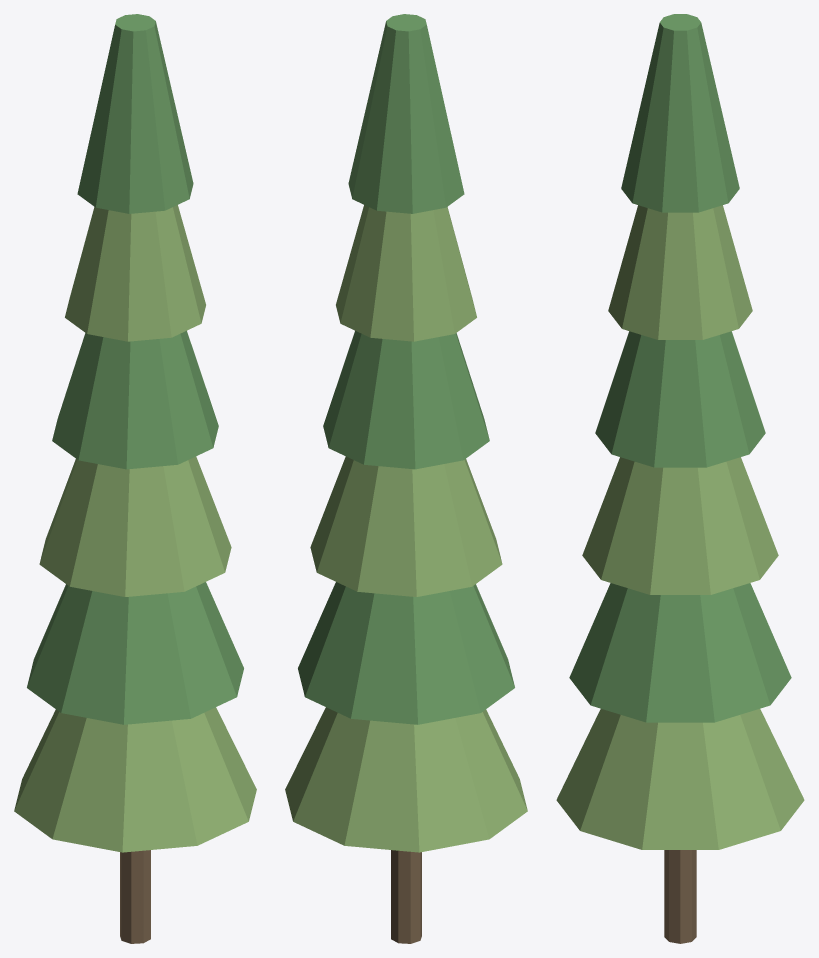
Rendered from tree-column.glb.
The picture shows the model from 3 angles, left to right: view 1: azimuth 30°, elevation 25°; view 2: azimuth 150°, elevation 25°; view 3: azimuth 270°, elevation 25°; orthographic projection.
Parts seen in each view (by area): view 1: crown, trunk; view 2: crown, trunk; view 3: crown, trunk.
Part boxes in pixels (x1,y1,x2,y2): crown: [14, 14, 256, 852]; trunk: [120, 850, 150, 943]; crown: [285, 14, 527, 852]; trunk: [391, 850, 421, 943]; crown: [556, 14, 804, 849]; trunk: [664, 850, 696, 943].
Bounding box in the file's own units: 2.19 × 9.35 × 2.3.
